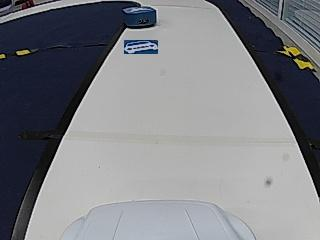prop: (124, 6, 156, 29)
